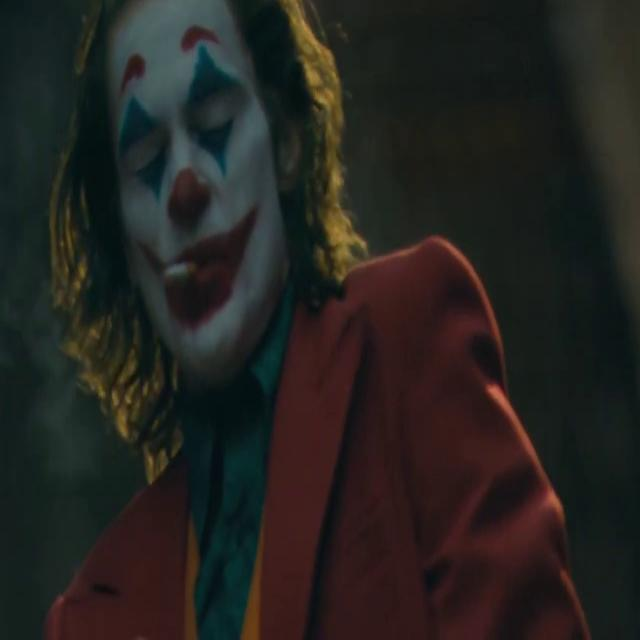Smooking: (152, 254, 199, 282)
